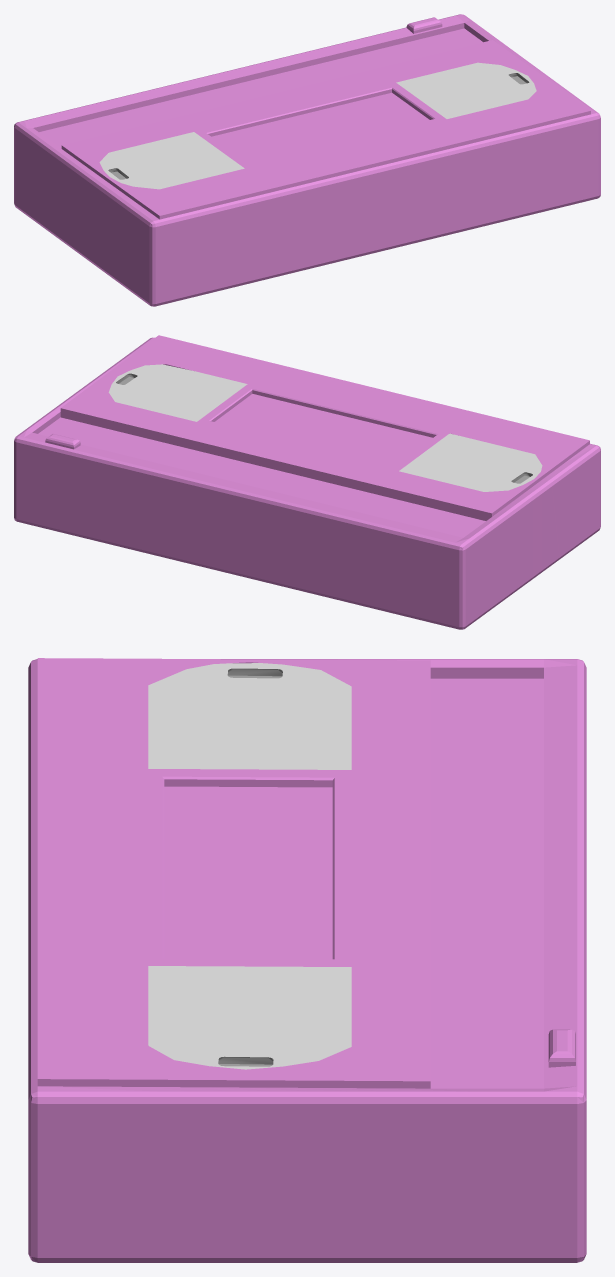
File: VHS Tape.fbx
3 views of the same model, one above another, from view 1: azimuth 30°, elevation 25°; view 2: azimuth 150°, elevation 25°; view 3: azimuth 270°, elevation 25° (orthographic). The views are drawn at different scales.
Parts seen in each view (by area): view 1: VHSShape, Glass1; view 2: VHSShape, Glass1; view 3: VHSShape, Glass1.
Boxes of the visible parts, x1=… form: VHSShape: x1=14, y1=14, x2=600, y2=306; Glass1: x1=99, y1=62, x2=536, y2=189; VHSShape: x1=14, y1=335, x2=600, y2=629; Glass1: x1=108, y1=364, x2=542, y2=491; VHSShape: x1=28, y1=658, x2=586, y2=1262; Glass1: x1=148, y1=663, x2=351, y2=1069.
Size of the model in its own units: 72.72 by 14.02 by 38.97.
